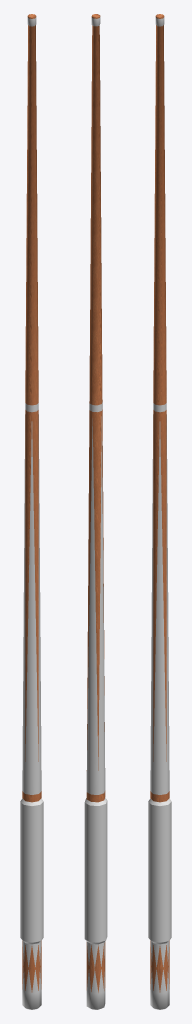
Rendered from Stick.fbx.
The picture shows the model from 3 angles, left to right: view 1: azimuth 90°, elevation 25°; view 2: azimuth 150°, elevation 25°; view 3: azimuth 270°, elevation 25°; orthographic projection.
Parts seen in each view (by area): view 1: Cylinder.010; view 2: Cylinder.010; view 3: Cylinder.010.
Boxes of the visible parts, box(x1,y1,x2,y2) form: Cylinder.010: box(20, 14, 43, 1009); Cylinder.010: box(84, 14, 107, 1009); Cylinder.010: box(148, 14, 171, 1009).
Bounding box in the file's own units: 0.0373 × 1.74 × 0.0373.
2 materials, 1 textured.
